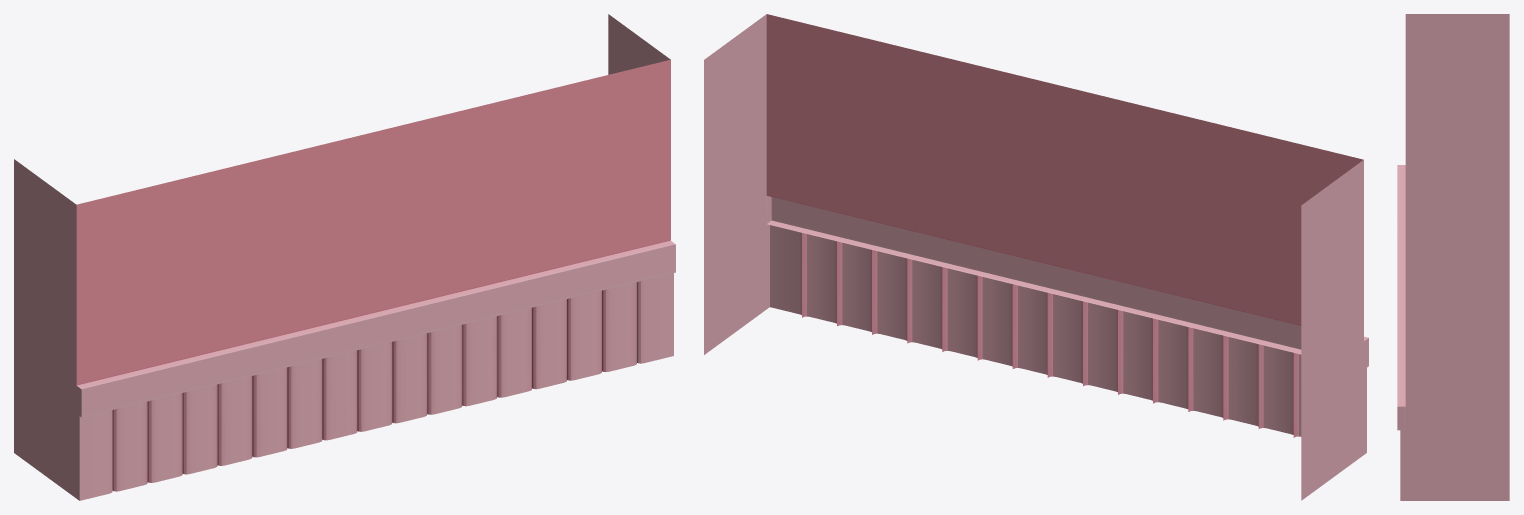
File: FrontWall550.fbx
The picture shows the model from 3 angles, left to right: view 1: azimuth 30°, elevation 25°; view 2: azimuth 150°, elevation 25°; view 3: azimuth 270°, elevation 25°; orthographic projection. The views are drawn at different scales.
Visible parts, largest first — view 1: Box001; view 2: Box001; view 3: Box001.
Boxes of the visible parts, box(x1,y1,x2,y2) form: Box001: box(14, 14, 675, 500); Box001: box(704, 14, 1368, 500); Box001: box(1397, 14, 1509, 500).
Bounding box in the file's own units: 550 × 260 × 108.
Materials: 1 (1 with a texture image).
